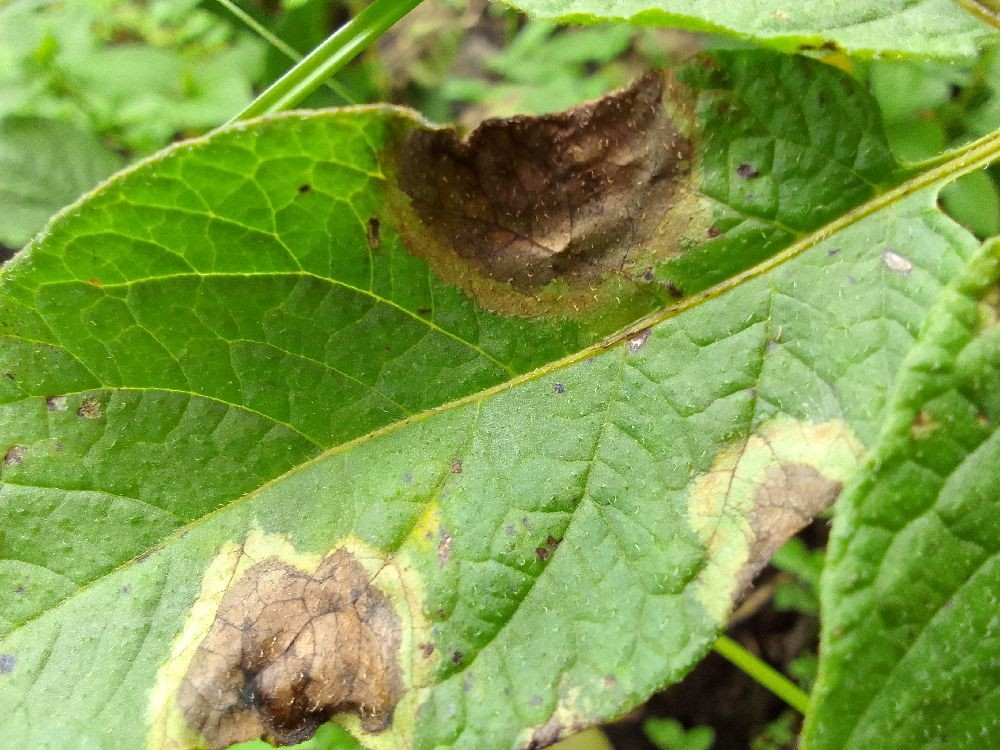late_blight: (350, 0, 736, 335), (149, 519, 433, 750), (694, 434, 869, 713)
